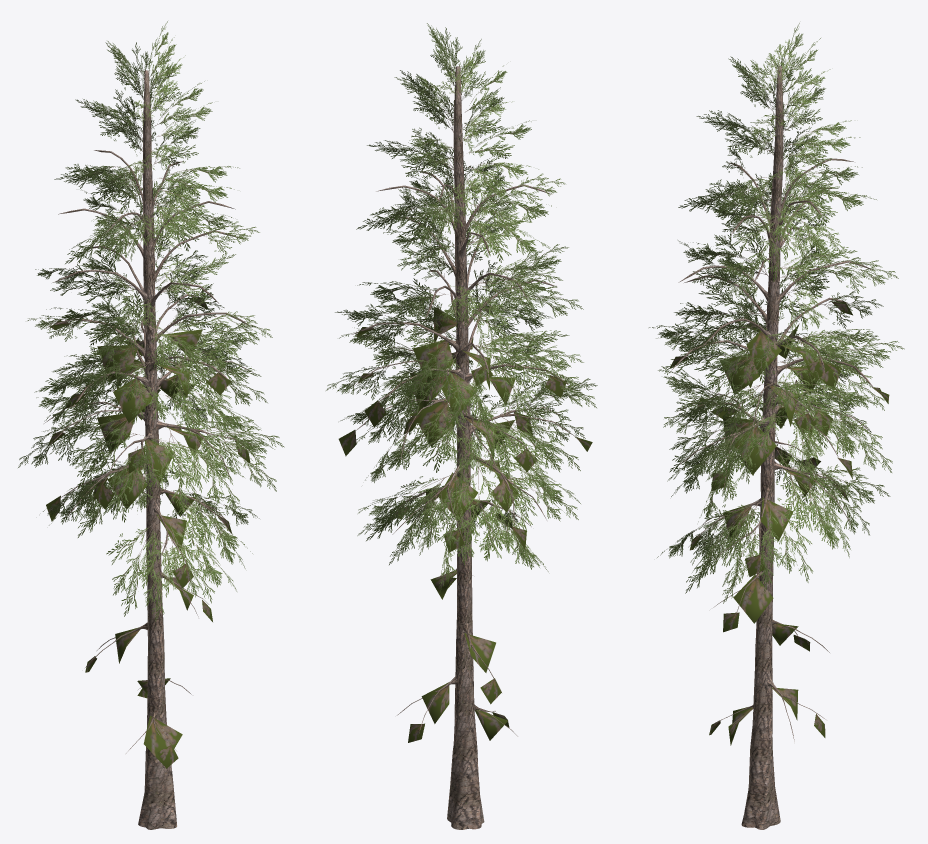
The model's file is spruce4.fbx.
The picture shows the model from 3 angles, left to right: view 1: azimuth 30°, elevation 25°; view 2: azimuth 150°, elevation 25°; view 3: azimuth 270°, elevation 25°; orthographic projection. The views are drawn at different scales.
Parts seen in each view (by area): view 1: spruce branch_1, bark08_0, branch06_2; view 2: spruce branch_1, bark08_0, branch06_2; view 3: spruce branch_1, bark08_0, branch06_2.
Part boxes in pixels (bbox=[...]): spruce branch_1: bbox=[18, 21, 284, 621]; bark08_0: bbox=[44, 70, 253, 829]; branch06_2: bbox=[46, 297, 250, 768]; spruce branch_1: bbox=[326, 23, 597, 594]; bark08_0: bbox=[351, 66, 575, 829]; branch06_2: bbox=[338, 306, 592, 742]; spruce branch_1: bbox=[649, 23, 904, 603]; bark08_0: bbox=[671, 66, 875, 829]; branch06_2: bbox=[669, 300, 889, 745].
Size of the model in its own units: 104 by 319 by 100.
3 materials, 3 textured.
